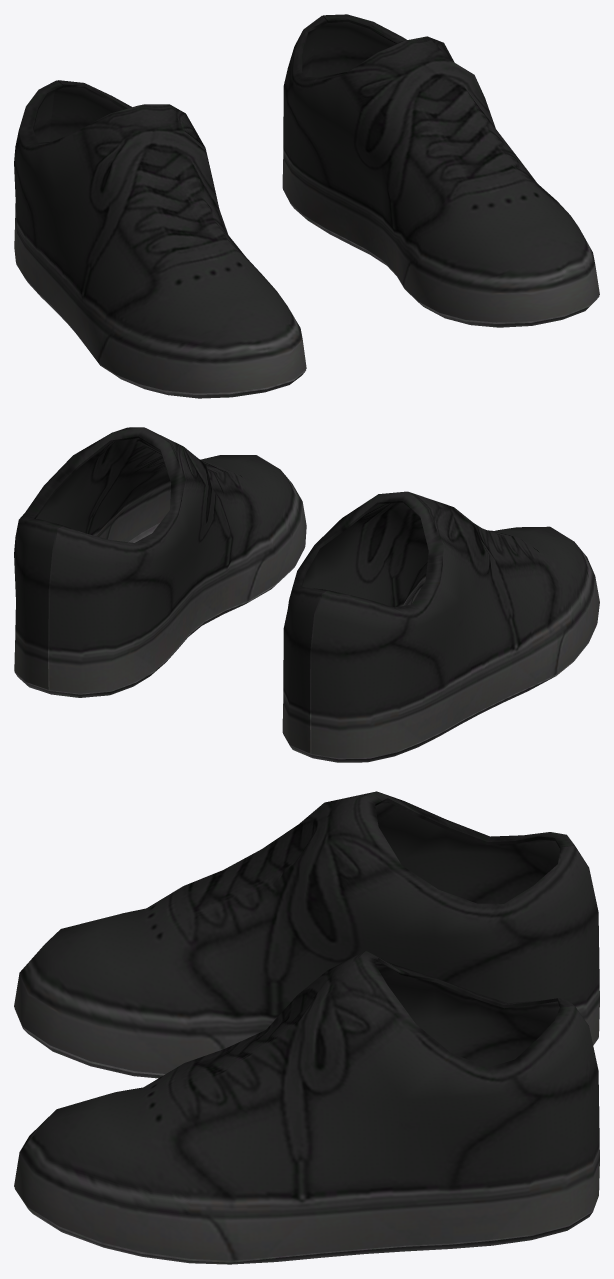
Rendered from Shoes 1.FBX.
3 renders of one model, top to bottom at view 1: azimuth 30°, elevation 25°; view 2: azimuth 150°, elevation 25°; view 3: azimuth 270°, elevation 25°, orthographic. The views are drawn at different scales.
Parts seen in each view (by area): view 1: Shoes; view 2: Shoes; view 3: Shoes.
Part boxes in pixels (x1,y1,x2,y2): Shoes: (14,14,599,398); Shoes: (14,427,599,762); Shoes: (14,791,599,1264).
Bounding box in the file's own units: 23.5 × 9.97 × 20.98.
